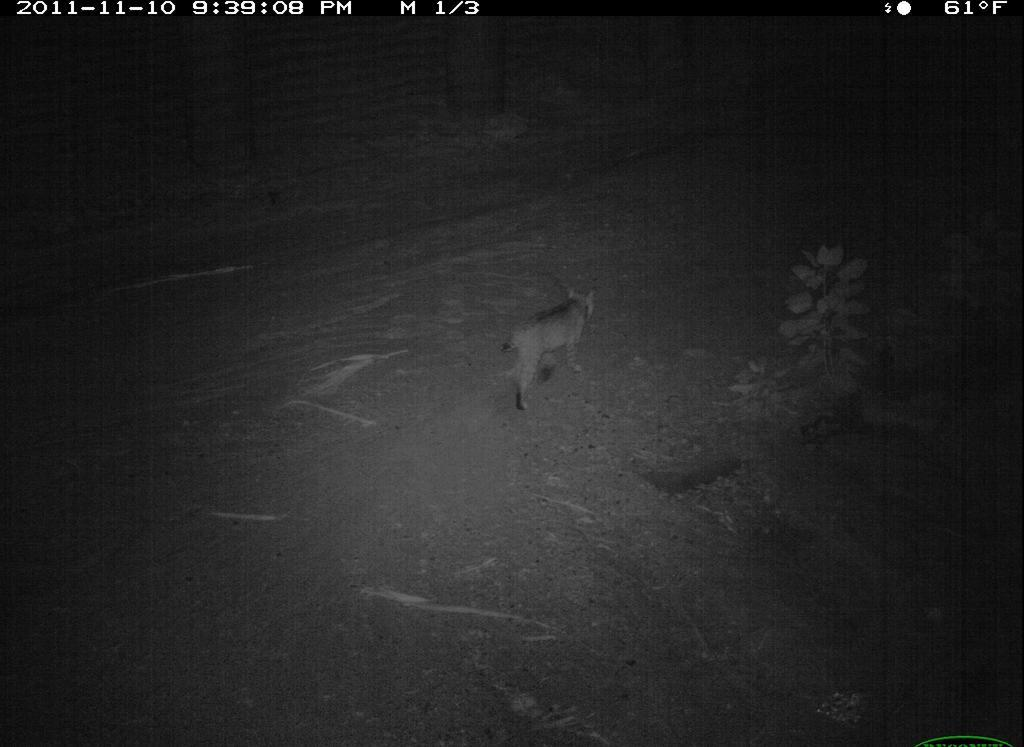bobcat: (493, 280, 613, 417)
